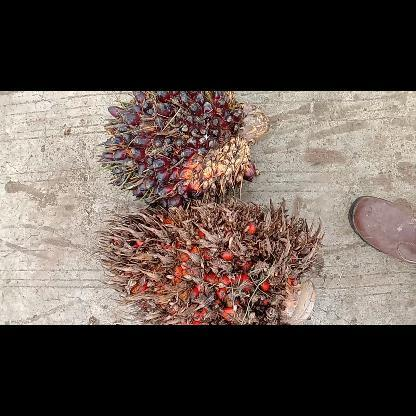TBS mentah: (100, 90, 268, 206)
Terlalu masak: (95, 198, 323, 324)
